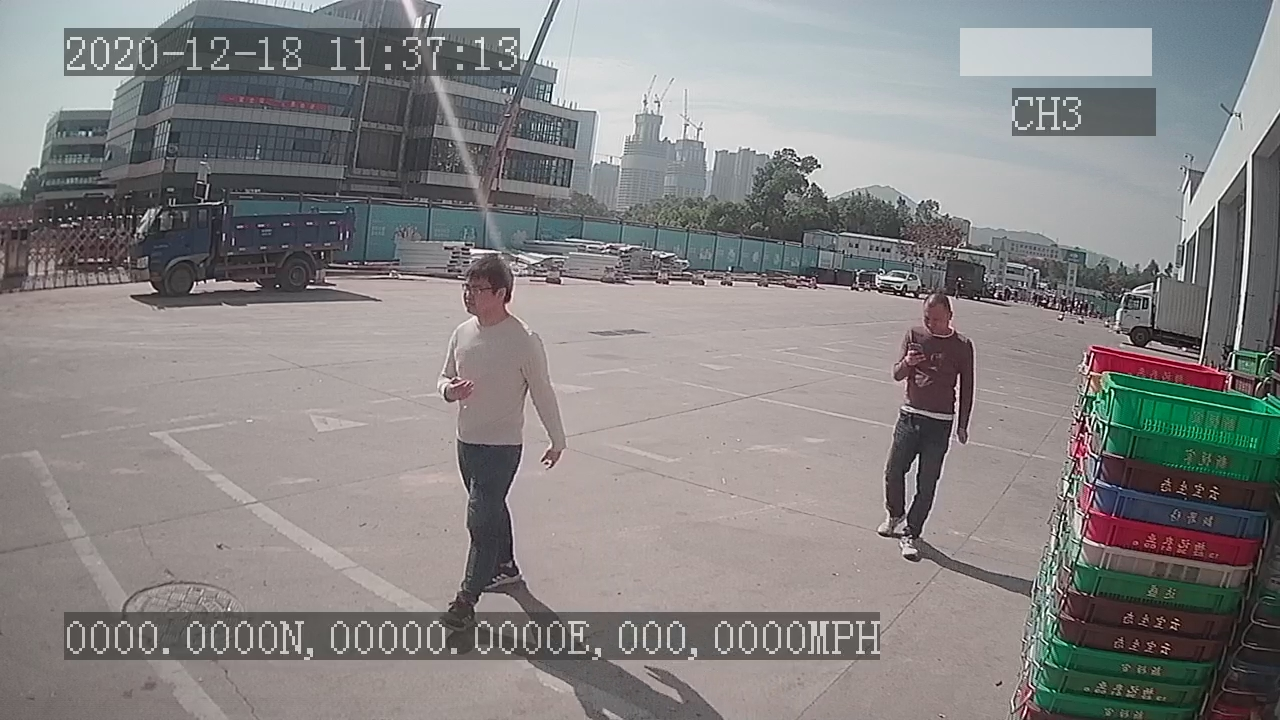person: (872, 288, 976, 567)
